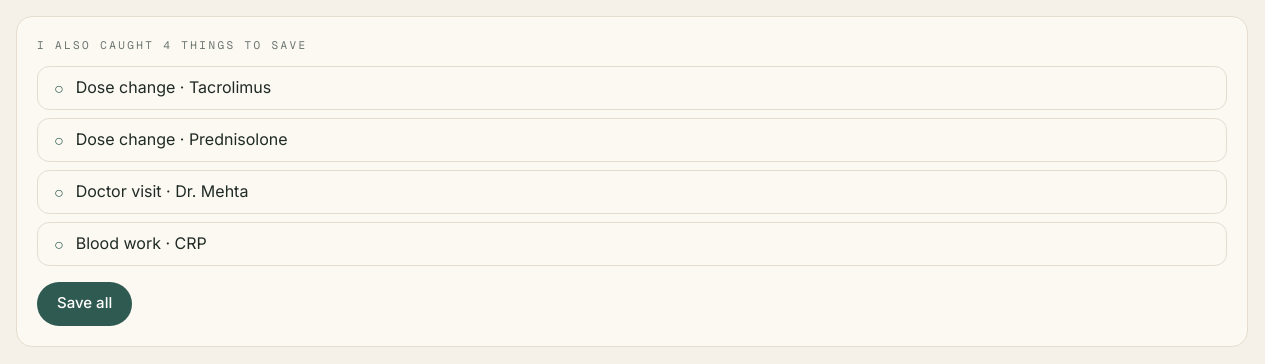
Scenario: <ConfirmCardStack /> — N≥4 grouped presentation › "Save all" saves every pending card
The width and height of the screenshot is (1265, 364).
Click the button with test id "confirm-card-group-save-all".
click(85, 304)  # box [37, 282, 132, 326]
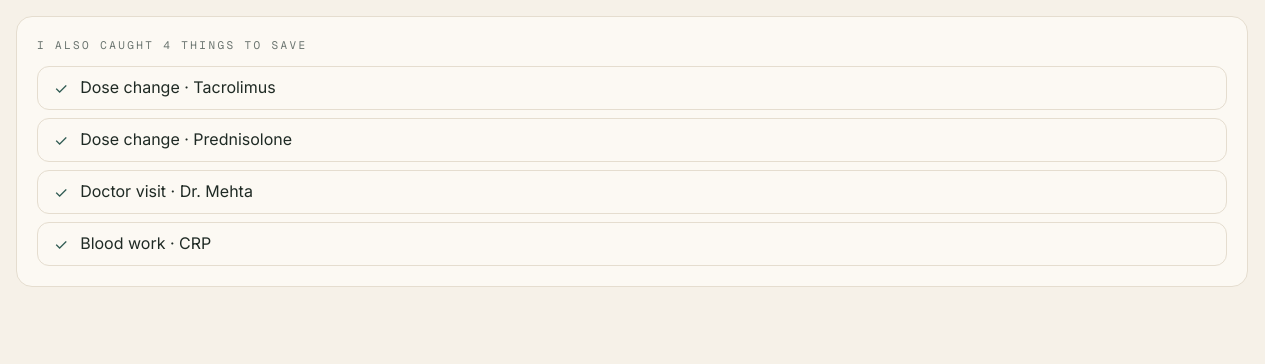
Now the text with test id "confirm-card-group-row-dose-2-status" reads "✓", box [54, 130, 68, 150]
Now the button with test id "confirm-card-group-save-all" is gone
